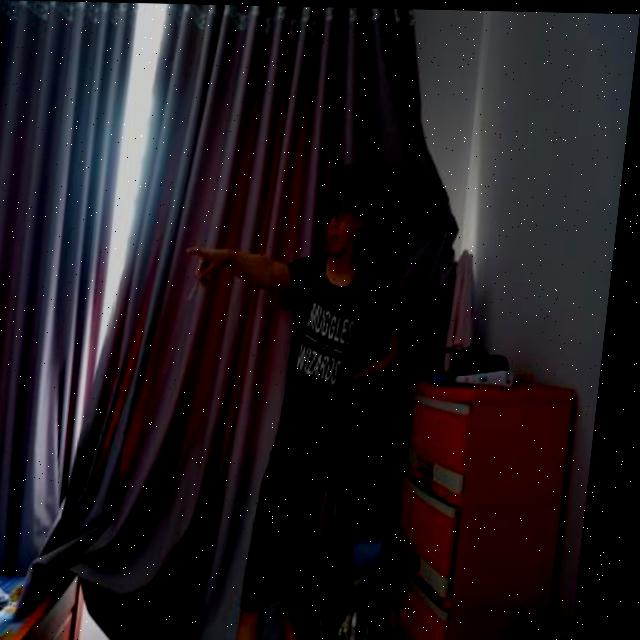cigarette: (194, 277, 206, 301)
